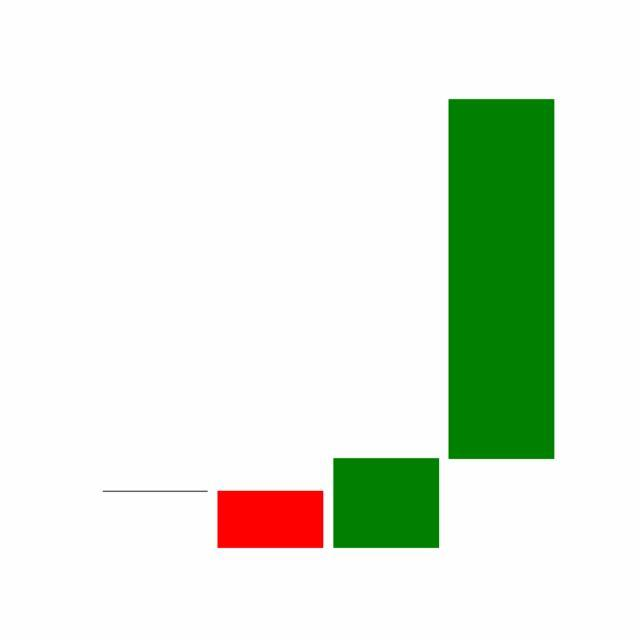Marubozu: (444, 95, 560, 463)
